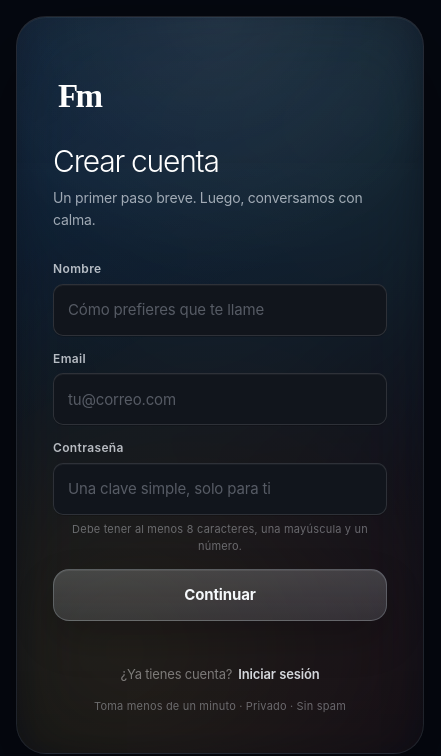
Scenario: RegisterPage › validates name length
Step 1. Type "A" into the field with placeholder "Cómo prefieres que te llame" → (220, 310), box [53,284,387,336]
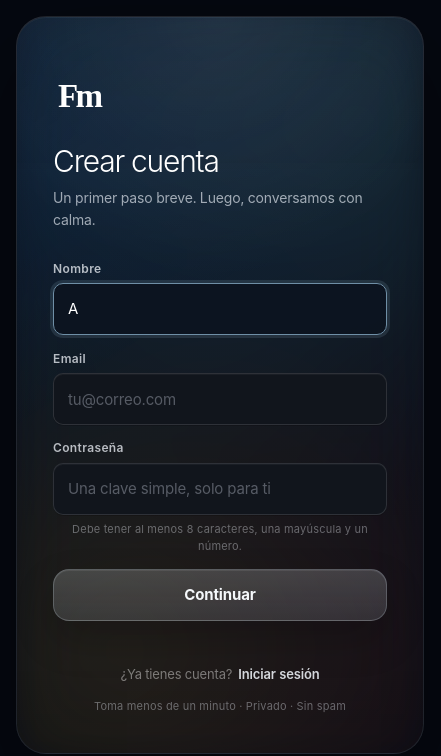
Step 2. Click the button "Continuar" → (220, 595), box [53,569,387,621]
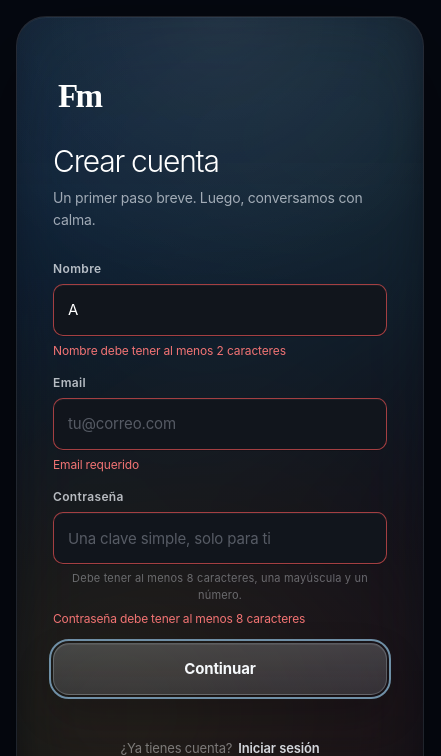
Result: the text "Nombre debe tener al menos 2 caracteres" is shown at [53,343,286,358]
